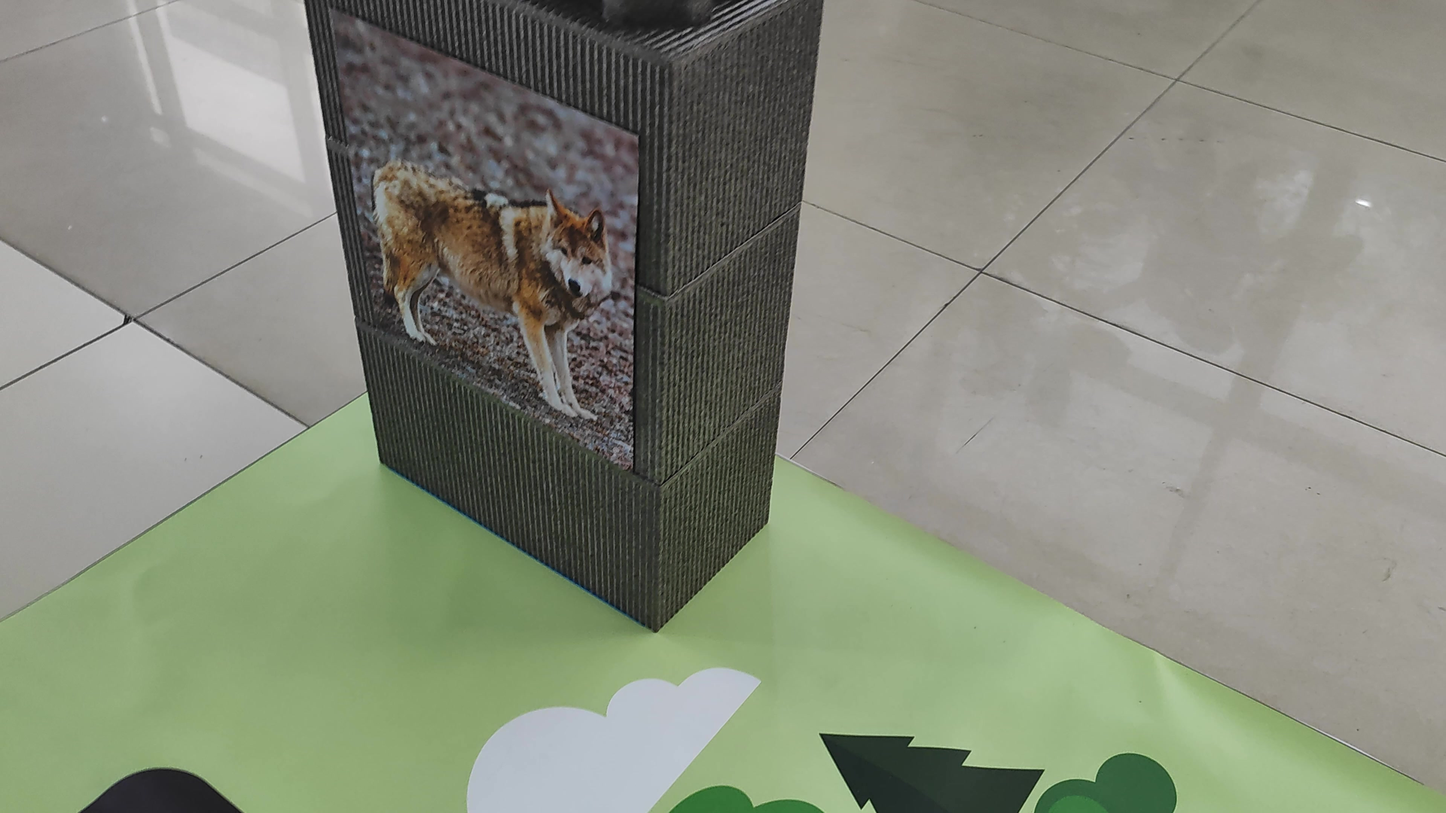wolf: (353, 144, 633, 437)
